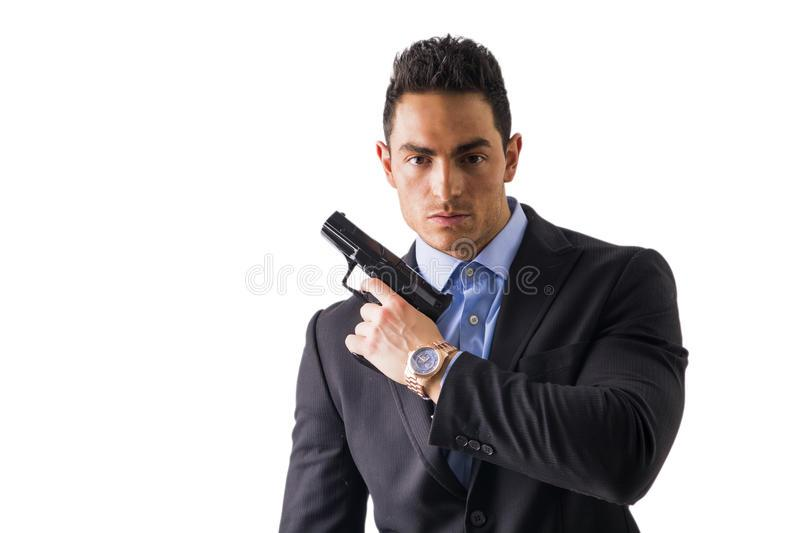criminal: (273, 32, 690, 533)
weapon: (318, 208, 458, 373)
